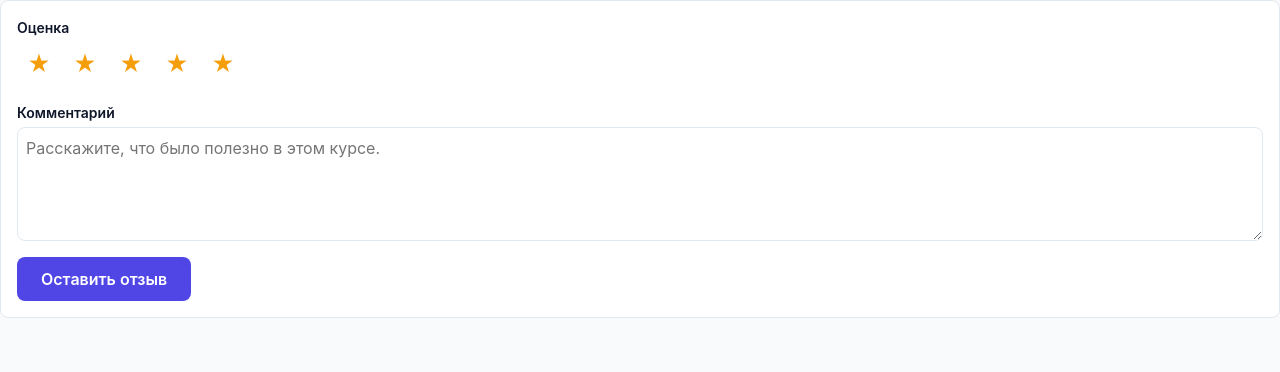
Scenario: ReviewForm › shows validation error for a short comment
Step 1. Type "мало" into the text box labelled "Комментарий" → (640, 184), box x1=17 y1=127 x2=1263 y2=241
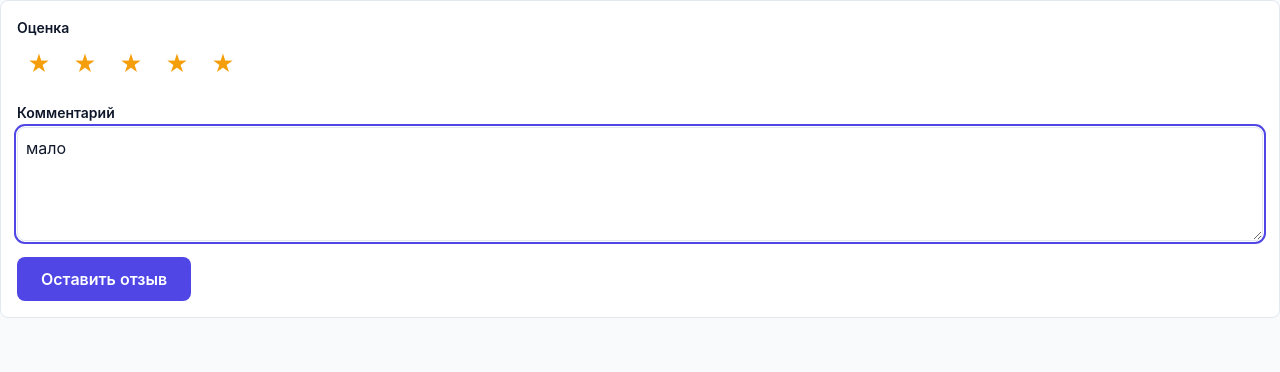
Step 2. Click the button "Оставить отзыв" → (104, 279), box x1=17 y1=257 x2=191 y2=301
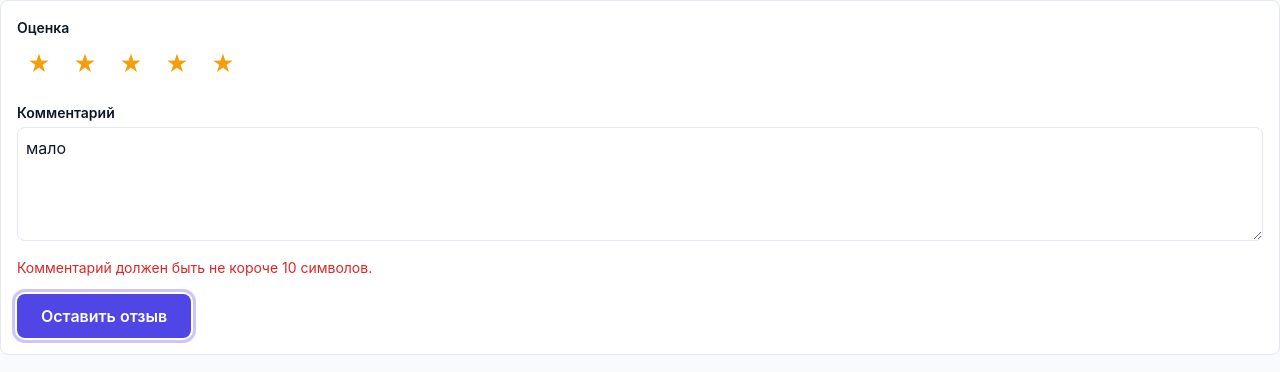
Now the text "Комментарий должен быть не короче 10 символов." is shown, box x1=17 y1=259 x2=372 y2=276
